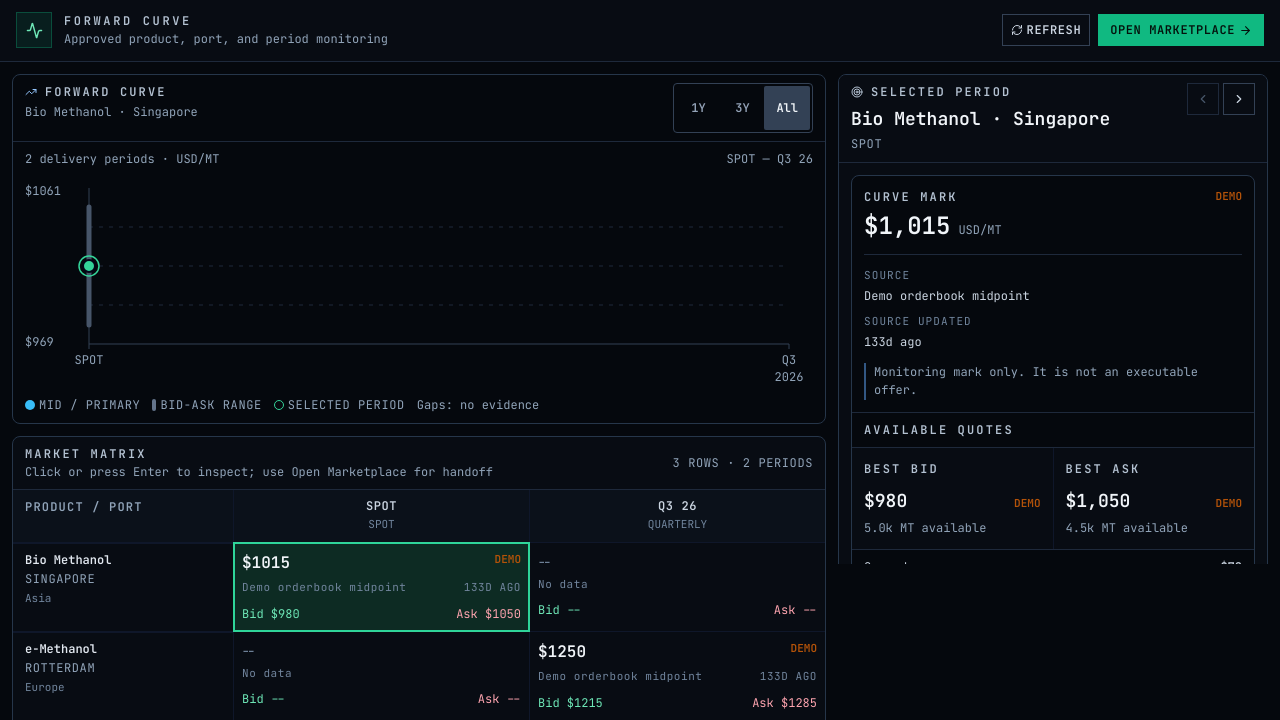
Test: ForwardCurveWorkspace › clears stale selected-period evidence while a newly selected slice is loading
Expected: the text "5.0k MT available" is shown, x1=864 y1=520 x2=986 y2=536
Expected: the text "$980" is shown, x1=864 y1=487 x2=907 y2=515
Click the button "$1250" at (678, 676), box x1=530 y1=632 x2=825 y2=719
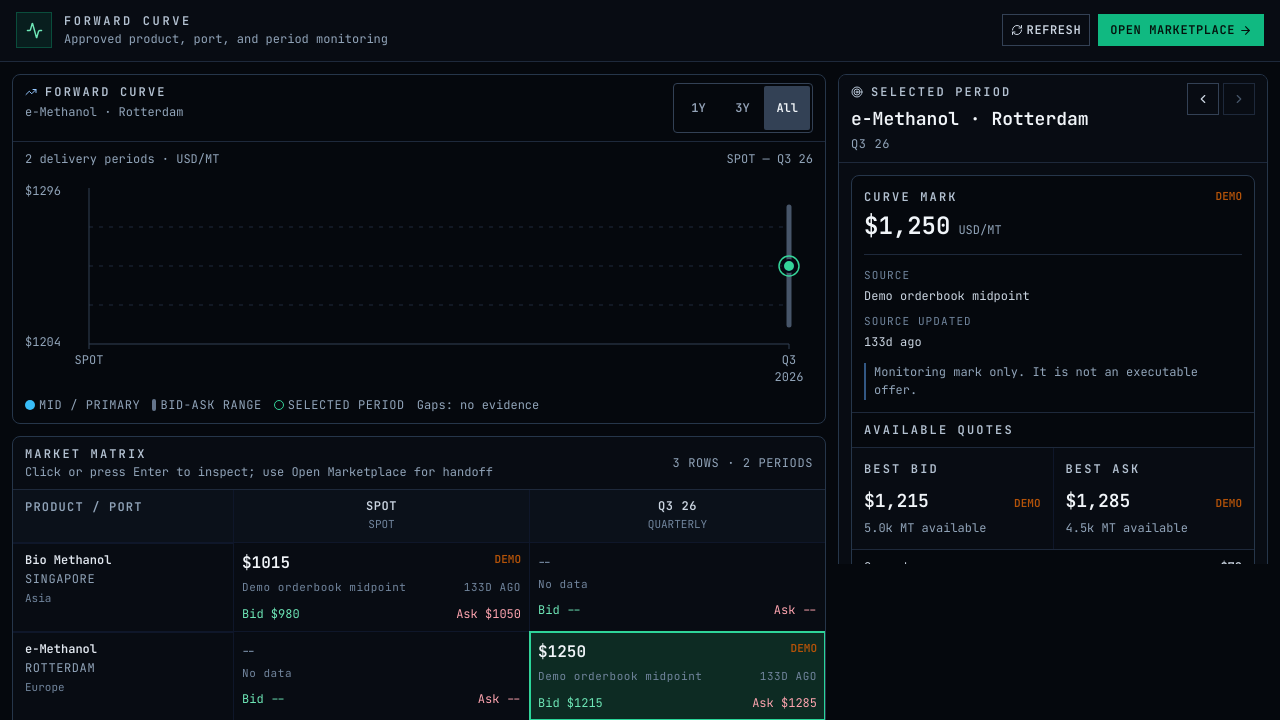
Result: the text "$1,215" is shown at x1=864 y1=487 x2=929 y2=515
